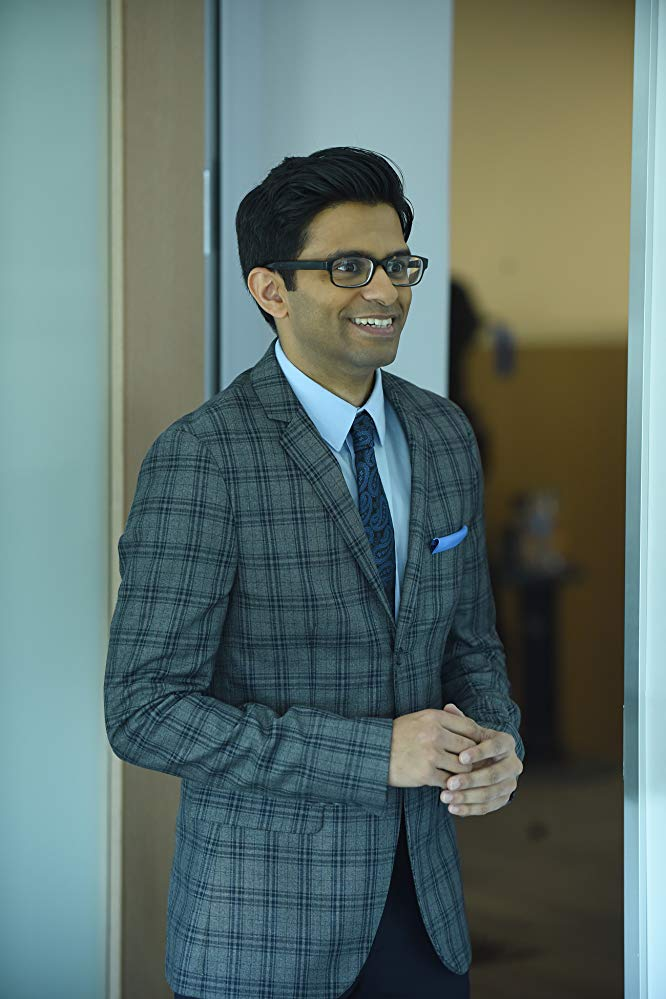person: (135, 142, 517, 999)
